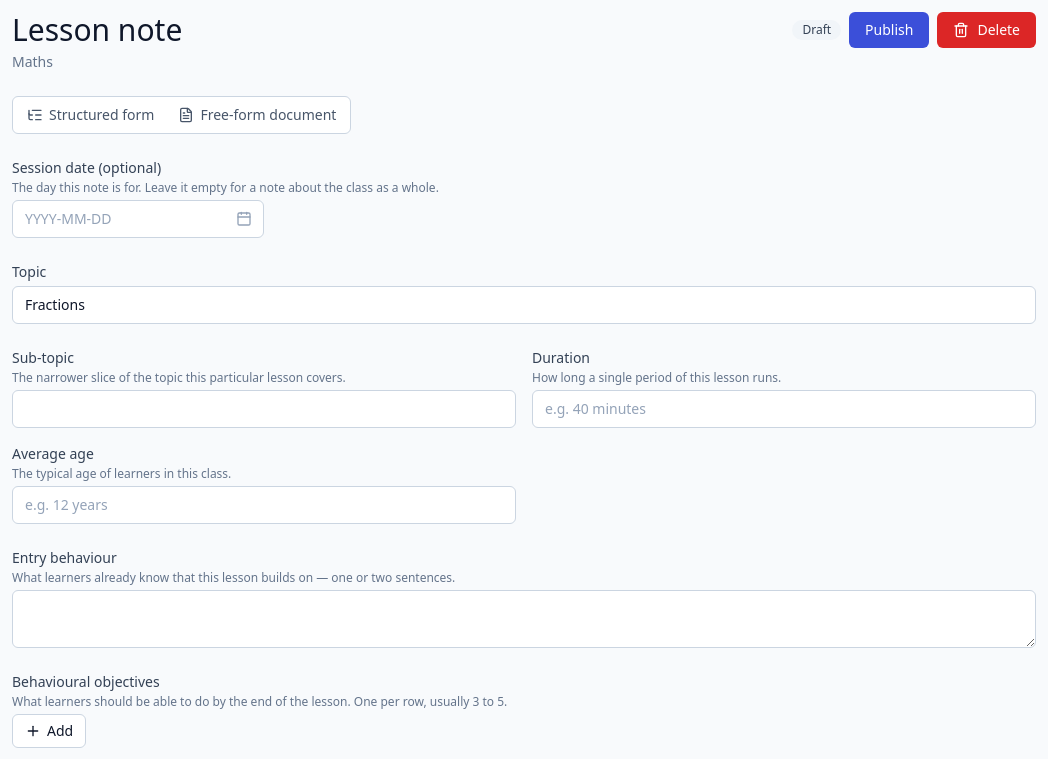
CreatorLessonNoteEditorPage › publishes a draft and hides AI generation when the plan has no AI add-on
This screenshot has width=1048, height=759.
Click the button "Publish" at (889,30), box [849,12,929,48]
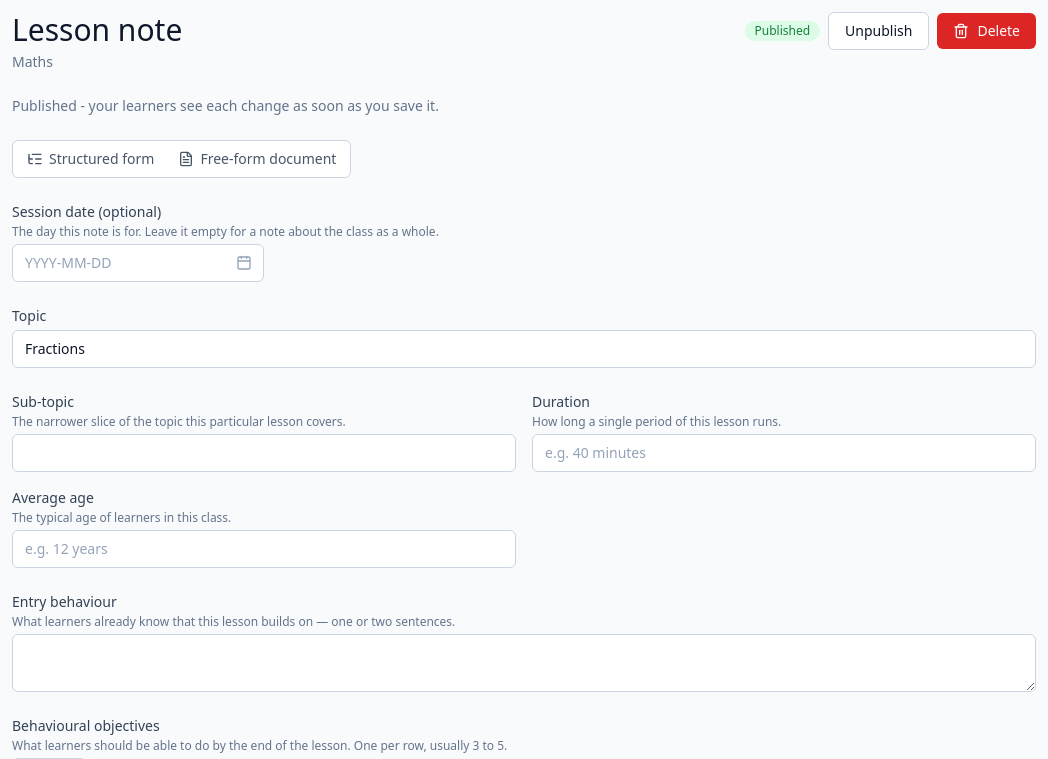
Result: the button "Unpublish" is shown at [828,12,929,50]
